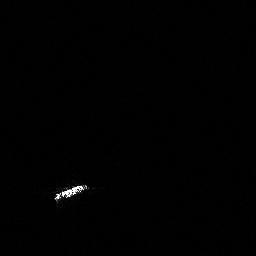ship: (52, 181, 90, 204)
